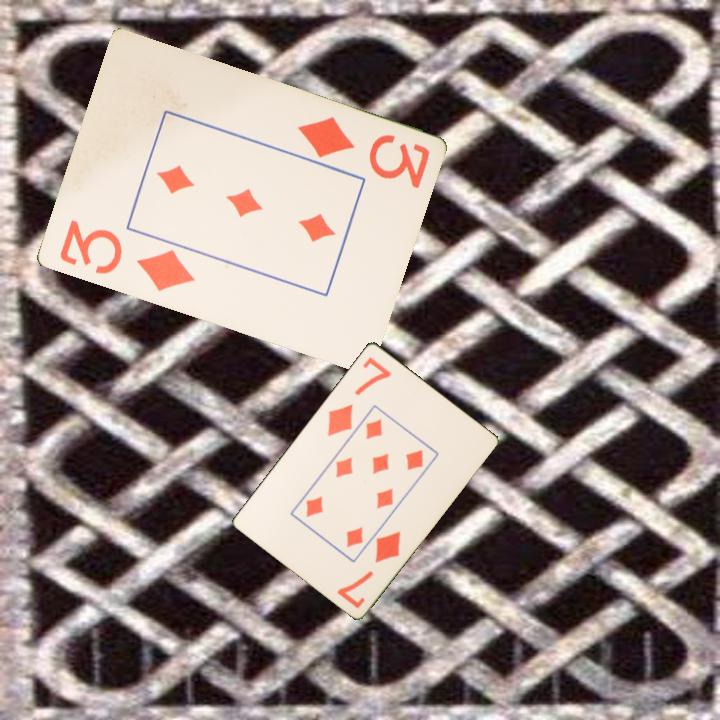3d: (55, 217, 198, 295), (293, 113, 432, 192)
7d: (324, 352, 394, 439), (333, 527, 404, 611)
